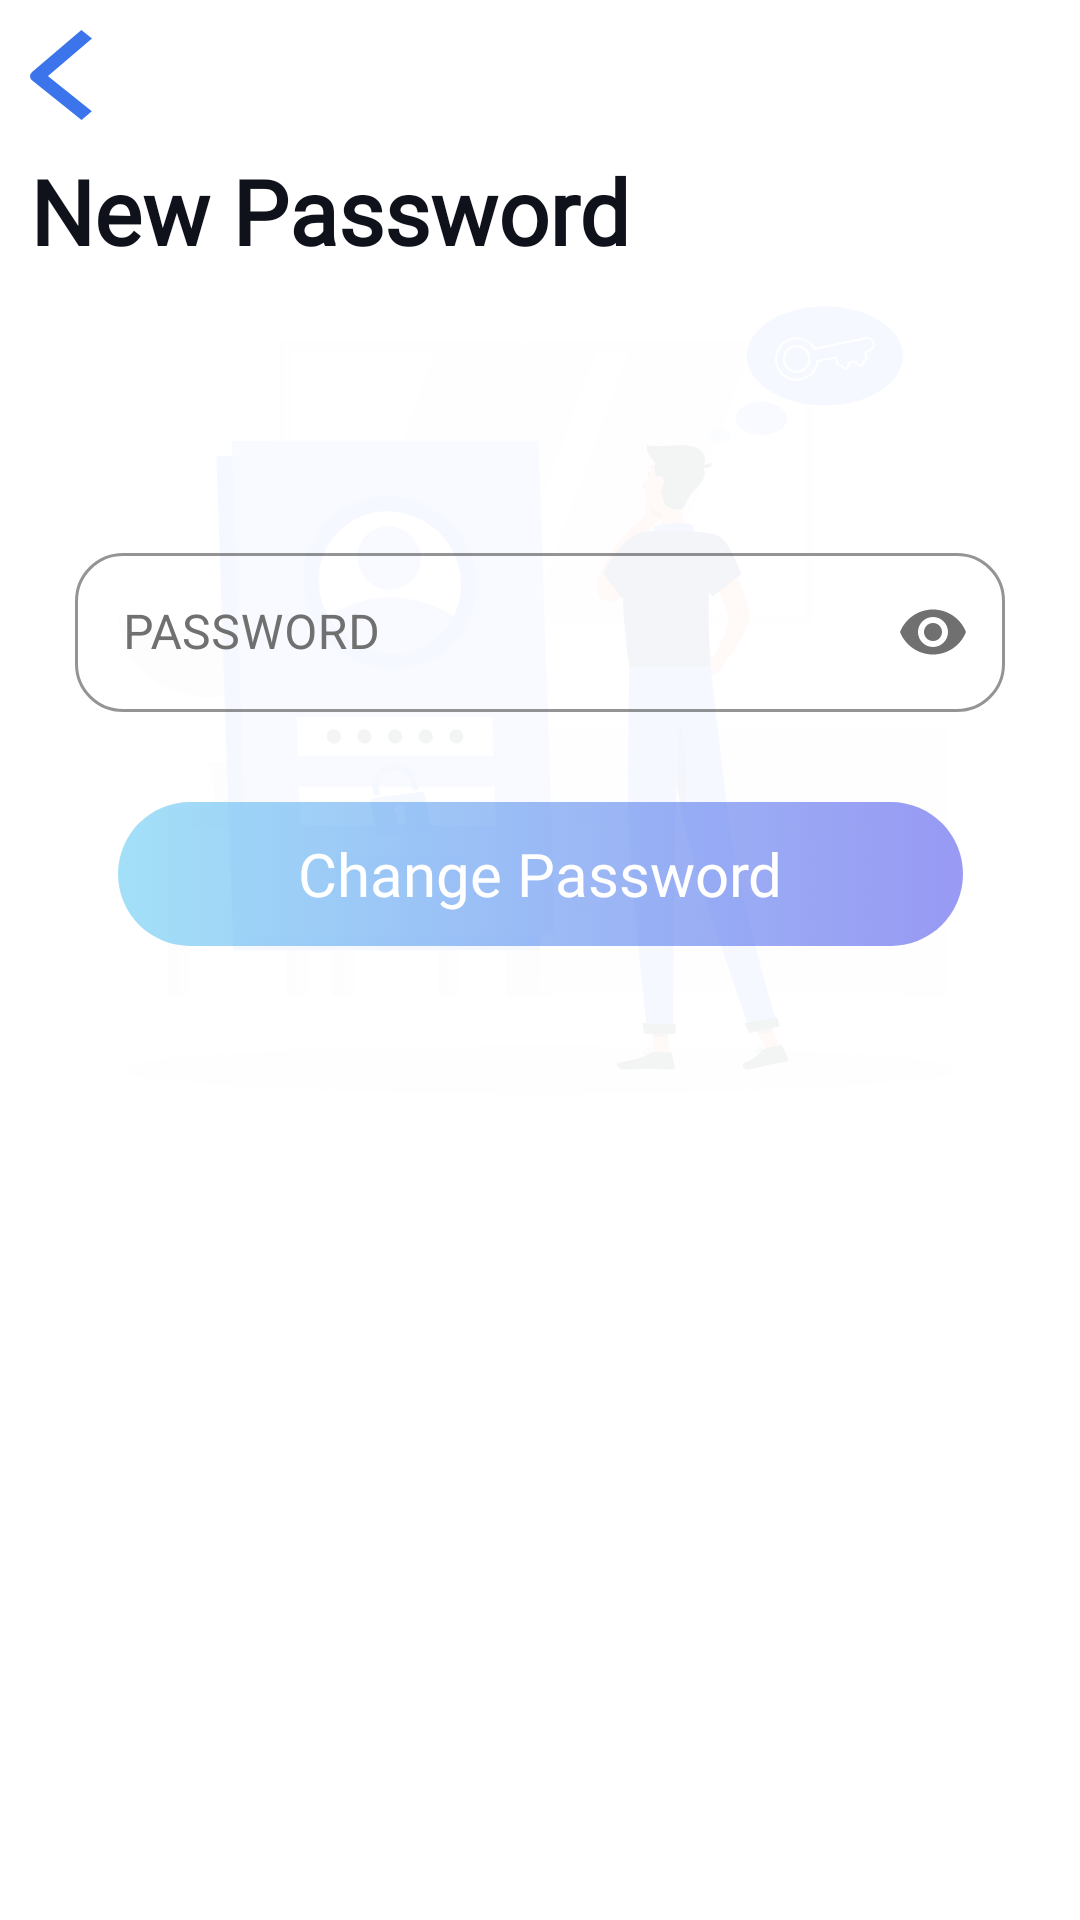

Icon click points for this 1080 x 1920 phone screenshot, format (x,y):
back: (61,75)
